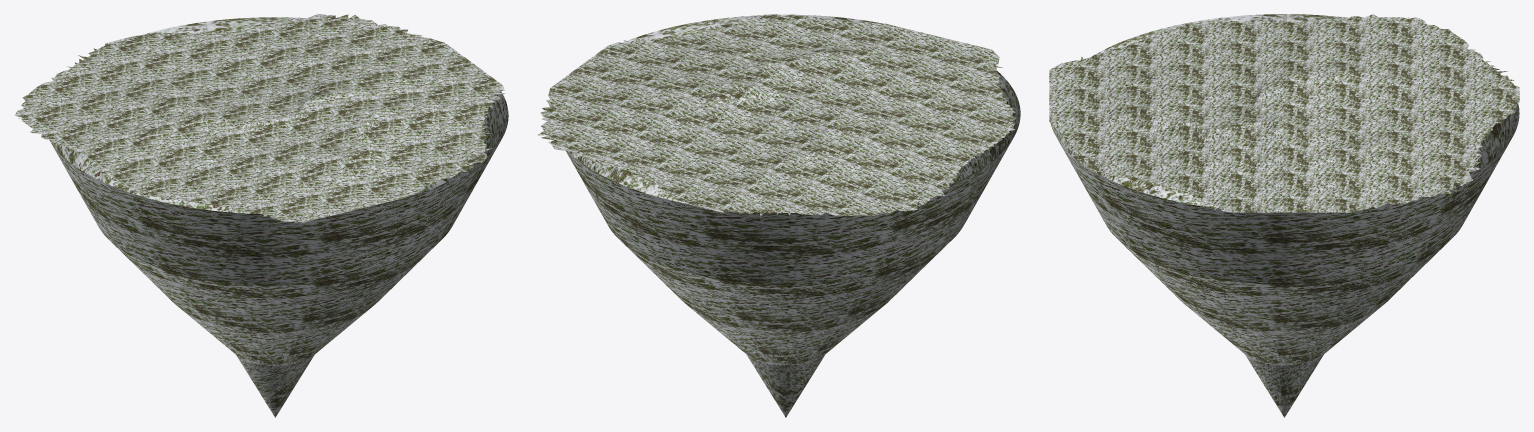
Rendered from terrain005.glb.
3 renders of one model, left to right at view 1: azimuth 30°, elevation 25°; view 2: azimuth 150°, elevation 25°; view 3: azimuth 270°, elevation 25°, orthographic.
Parts seen in each view (by area): view 1: Terrain005_1K, skirt; view 2: Terrain005_1K, skirt; view 3: Terrain005_1K, skirt.
Part boxes in pixels (bbox=[...]): Terrain005_1K: bbox=[14, 14, 505, 222]; skirt: bbox=[49, 17, 508, 417]; Terrain005_1K: bbox=[538, 14, 1015, 216]; skirt: bbox=[566, 14, 1020, 417]; Terrain005_1K: bbox=[1049, 14, 1519, 212]; skirt: bbox=[1050, 14, 1519, 417].
Bounding box in the file's own units: 200 × 149 × 200.
1 material, 1 textured.
